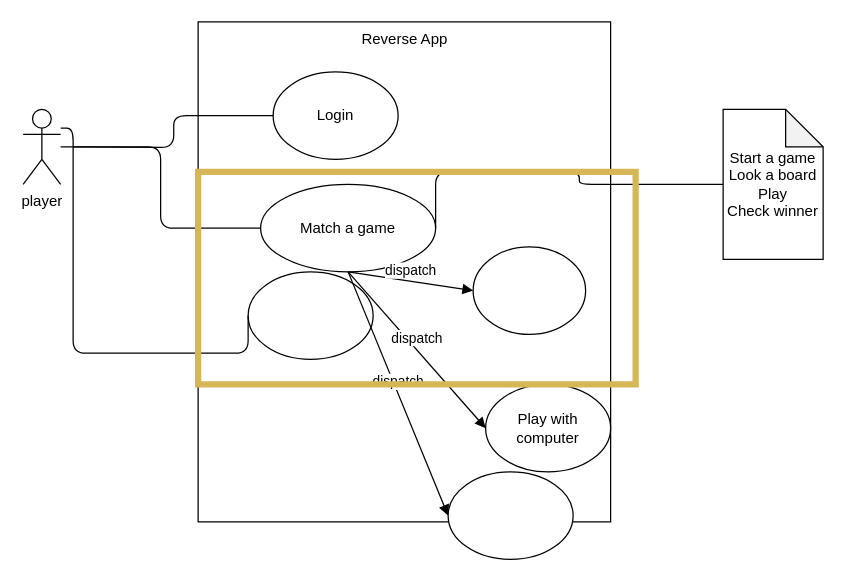
This 845x581 diagram has some shape labels left out. The shapes that lost their labels are listed below. From the top down, each one's box as (x1, y1, x2, y2) in pixels, then its label:
(472, 246, 586, 334): play by myself
(247, 271, 373, 359): Check game history
(447, 471, 573, 559): Play with other
